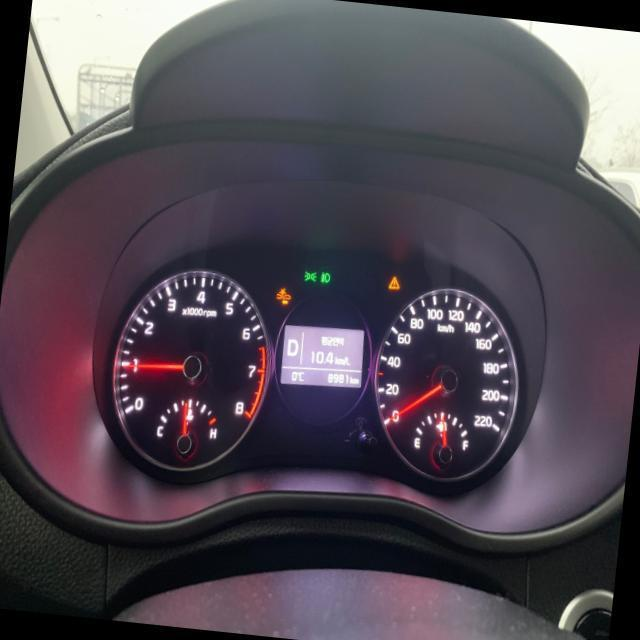Central Warning lamp: (387, 274, 400, 288)
FrontFogLight: (320, 270, 330, 282)
SideLamp: (302, 268, 316, 282)
